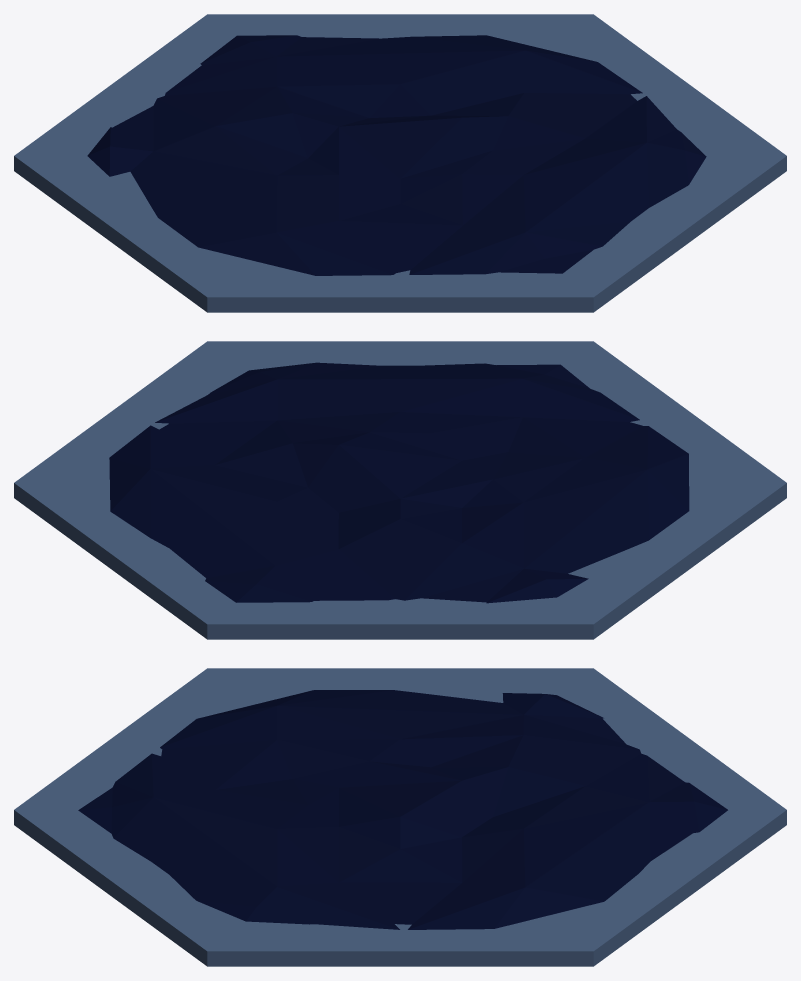
Rendered from water.obj.
3 renders of one model, top to bottom at view 1: azimuth 30°, elevation 25°; view 2: azimuth 150°, elevation 25°; view 3: azimuth 270°, elevation 25°, orthographic.
Parts seen in each view (by area): view 1: OceanCombined_Cylinder.006; view 2: OceanCombined_Cylinder.006; view 3: OceanCombined_Cylinder.006.
Boxes of the visible parts, bbox=[...] form: OceanCombined_Cylinder.006: bbox=[14, 14, 786, 312]; OceanCombined_Cylinder.006: bbox=[14, 341, 786, 639]; OceanCombined_Cylinder.006: bbox=[14, 668, 786, 966].
Bounding box in the file's own units: 3.98 × 0.2518 × 4.6.
